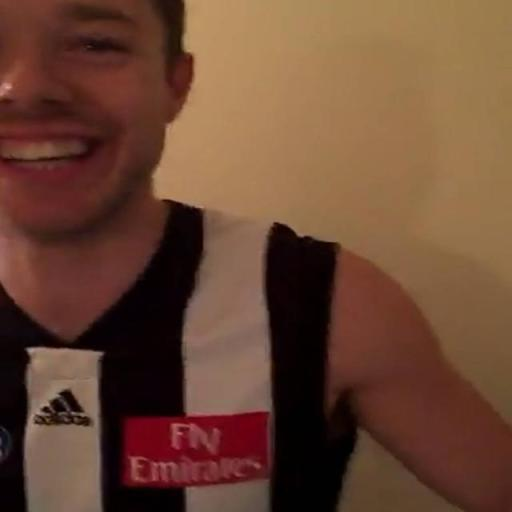Adidas: (32, 387, 98, 428)
Emirates: (120, 414, 268, 488)
